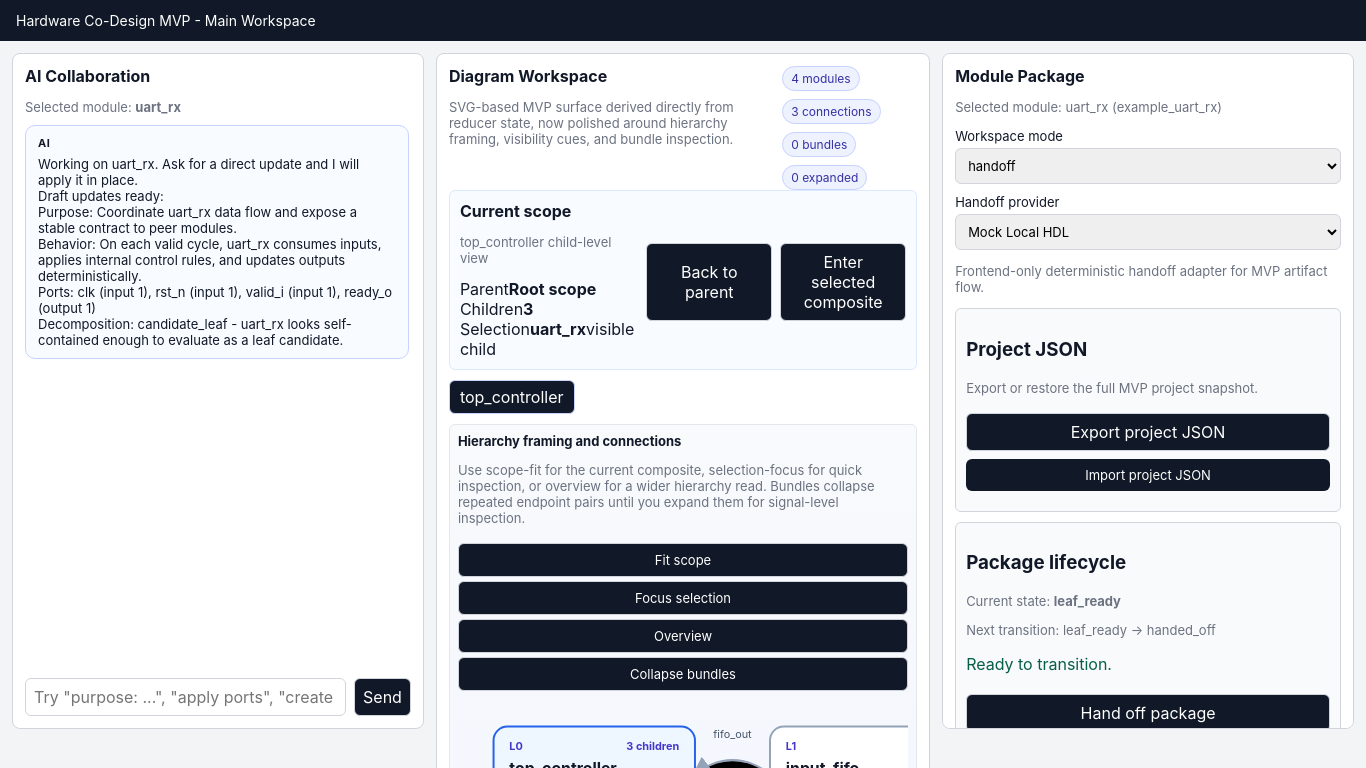
Test case: review/handoff UI flow › renders the provider selector and keeps provider choice in store-backed UI state
This screenshot has width=1366, height=768.
Select "Mock Structured HDL" in the dropdown labelled "Handoff provider": (1148, 232) x1=955 y1=214 x2=1341 y2=250
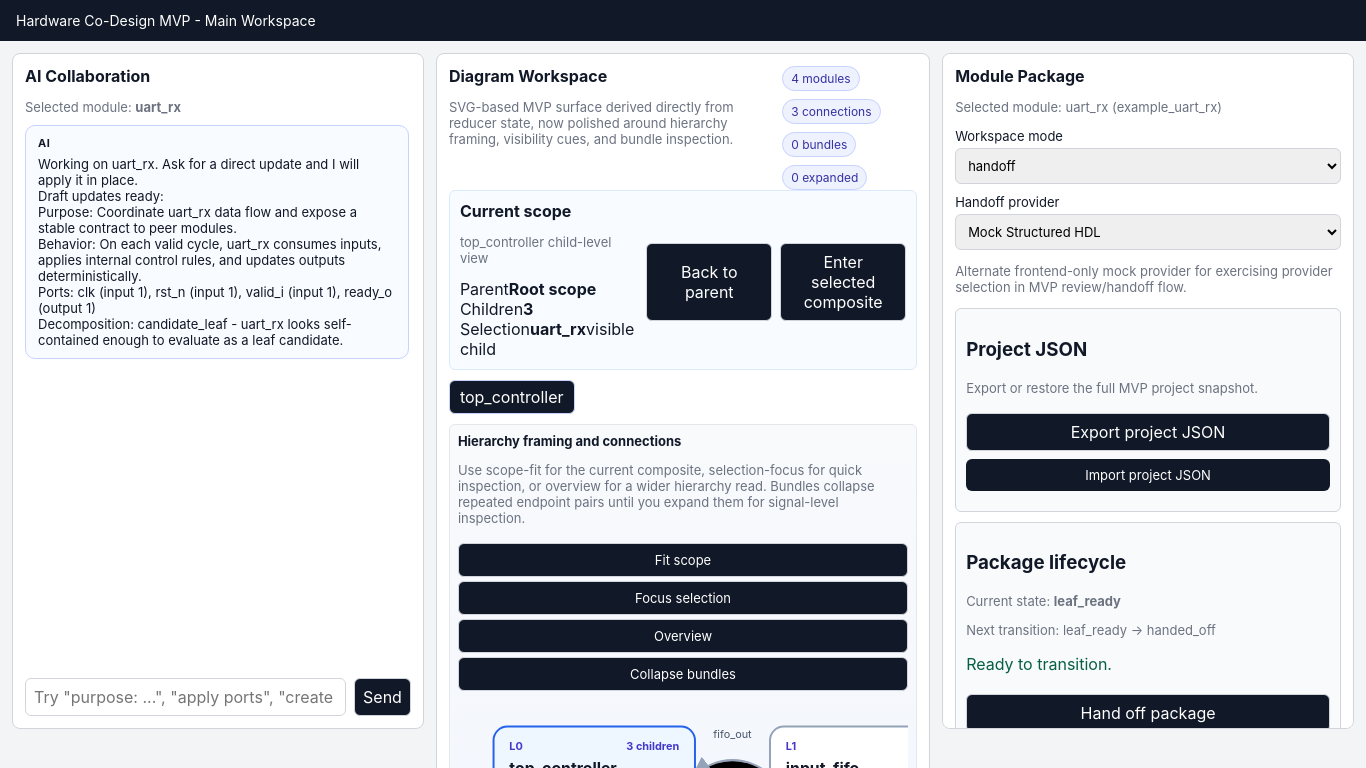
Check: the text "Alternate frontend-only mock provider" is shown, box x1=955 y1=263 x2=1333 y2=295
